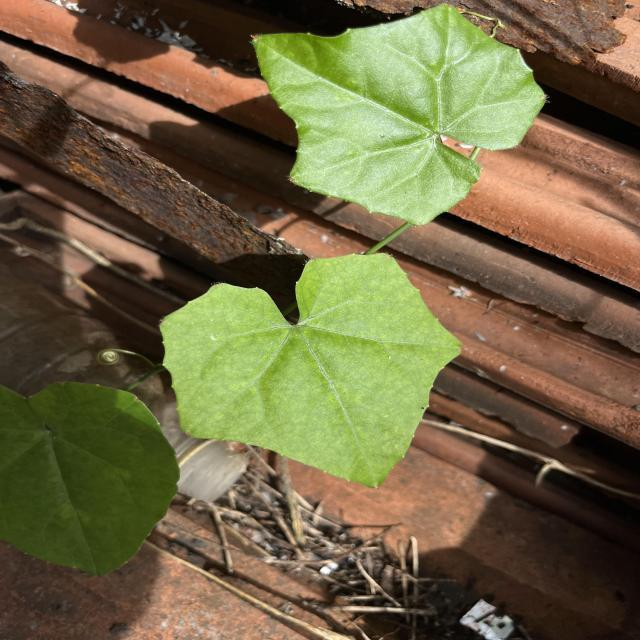Coccinia grandis: (158, 251, 464, 491), (246, 2, 548, 228)
